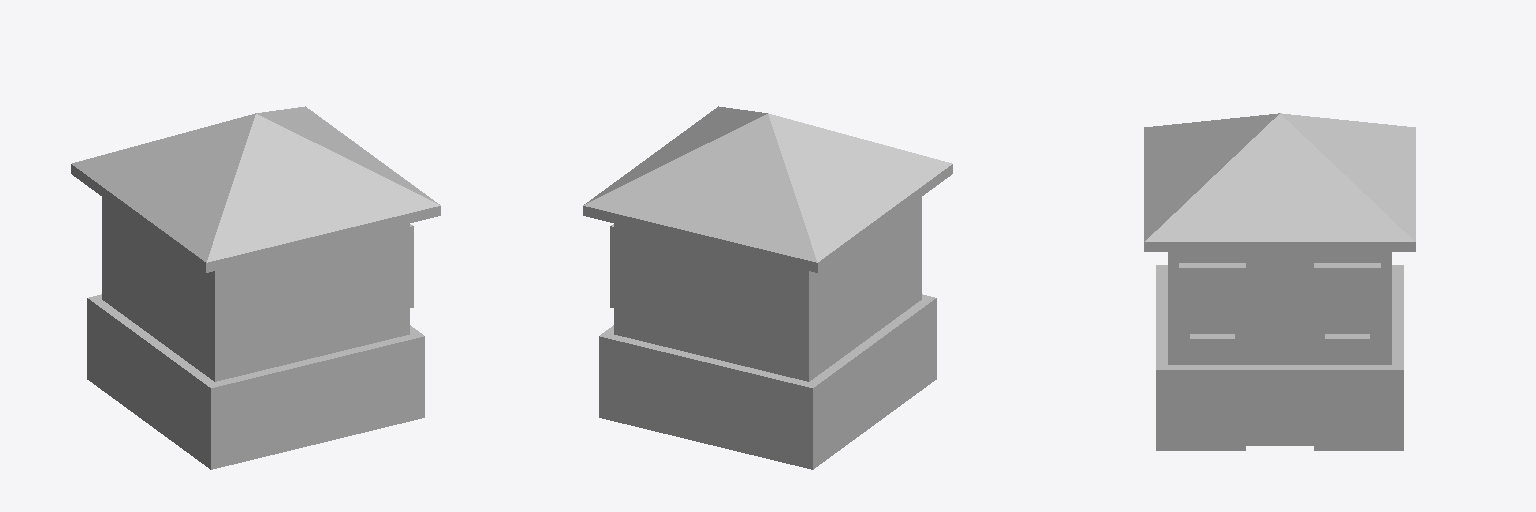
The model's file is Assets2.obj.
3 views of the same model, side by side, from view 1: azimuth 30°, elevation 25°; view 2: azimuth 150°, elevation 25°; view 3: azimuth 270°, elevation 25° (orthographic).
Parts seen in each view (by area): view 1: Cube.002; view 2: Cube.002; view 3: Cube.002.
Boxes of the visible parts, <box> form: Cube.002: <box>71,106,440,469</box>; Cube.002: <box>583,106,952,469</box>; Cube.002: <box>1144,113,1415,450</box>.
Size of the model in its own units: 24.1 by 28 by 24.1.